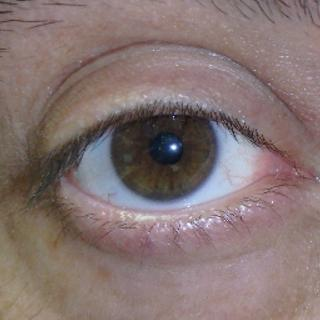pupil: (149, 132, 182, 165)
